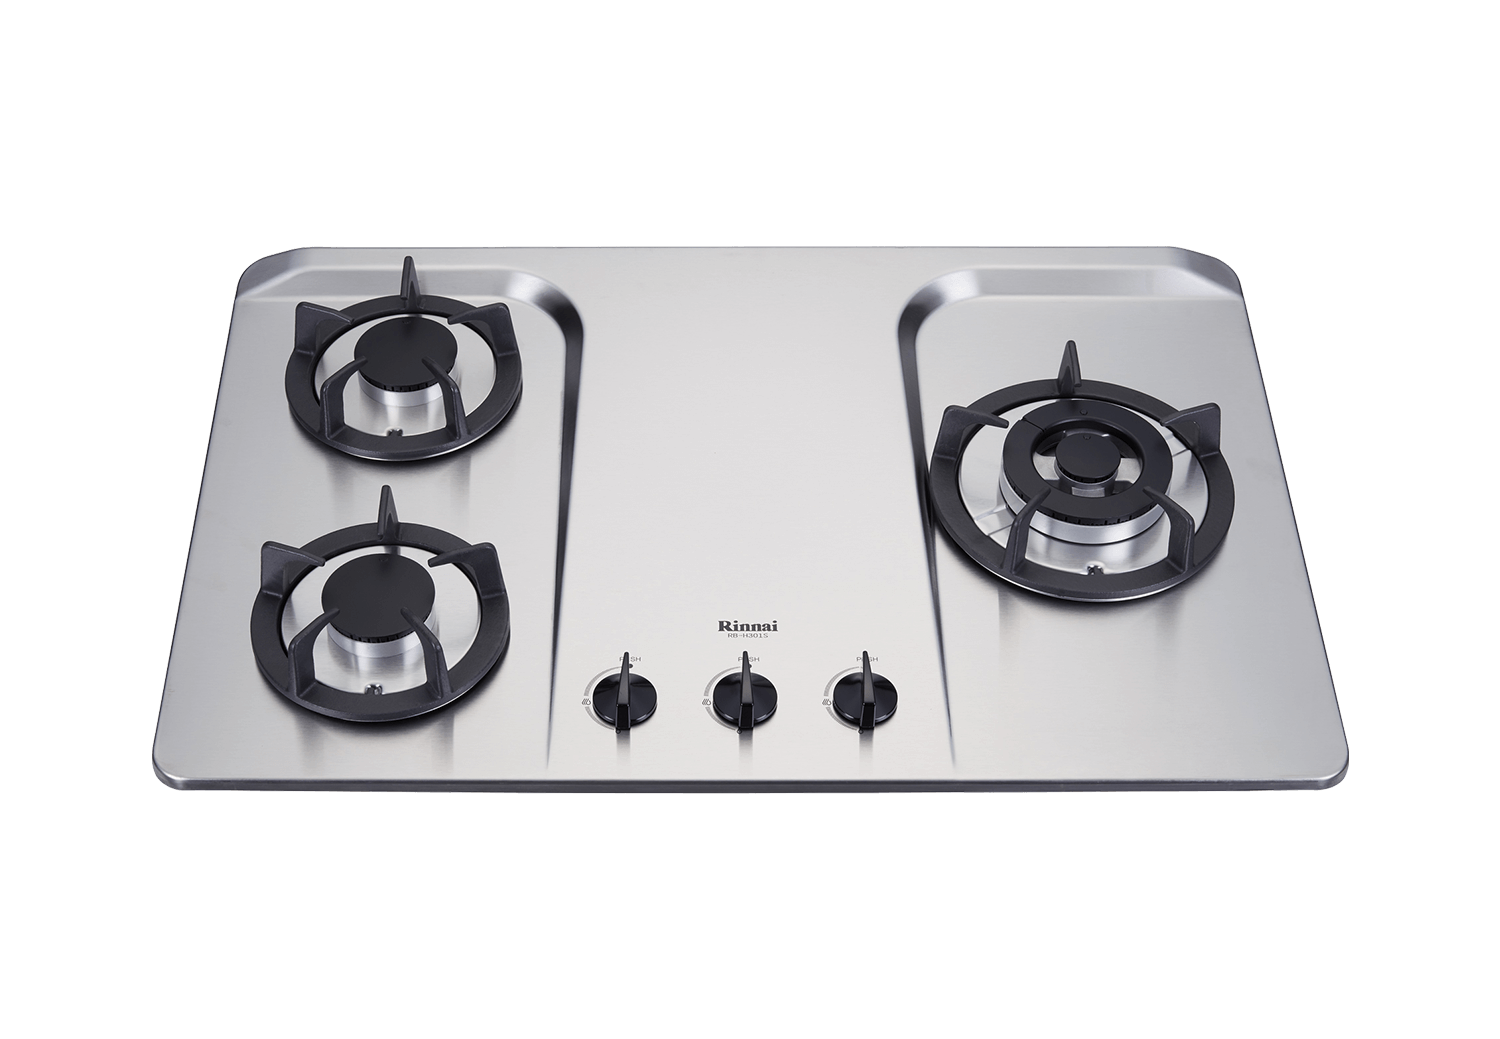gasoven: (141, 238, 1364, 810)
